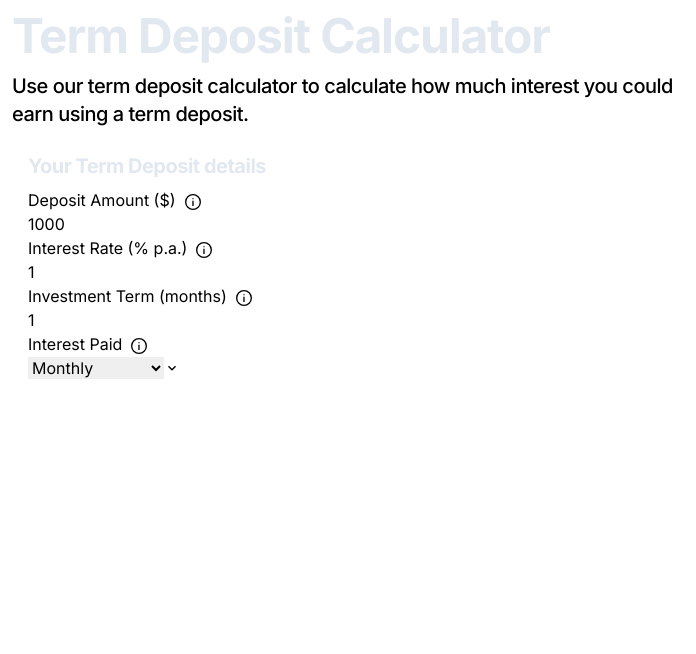
it: Term Deposit Calculator Component › should display an error message when Interest Rate is blank
Replace the text in the number field with test id "depositAmountInput" with "10000" at (354, 224), box [28, 212, 679, 236]
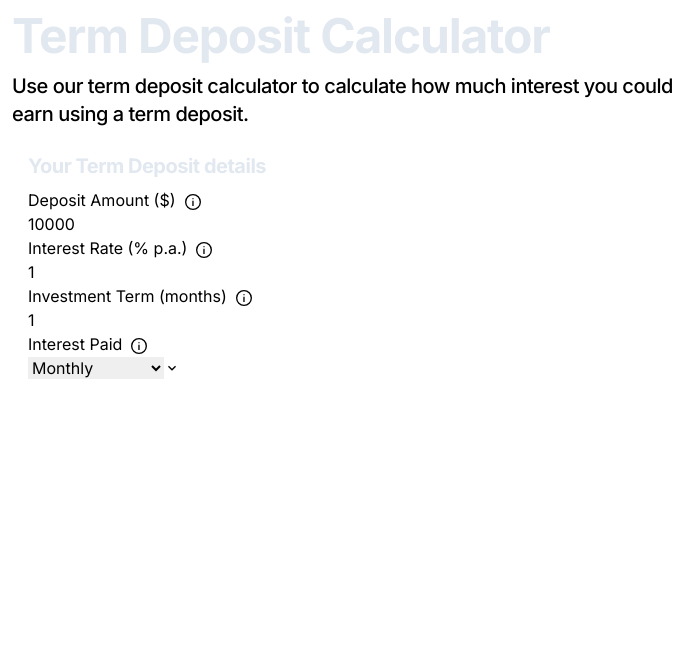
Clear the number field with test id "interestRateInput" at (354, 272), box [28, 260, 679, 284]
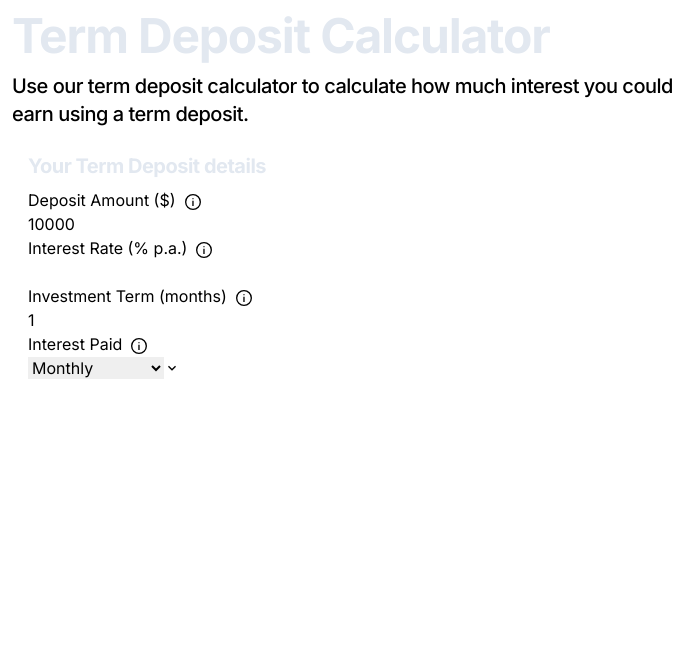
Replace the text in the number field with test id "investmentTermInput" with "36" at (354, 320), box [28, 308, 679, 332]
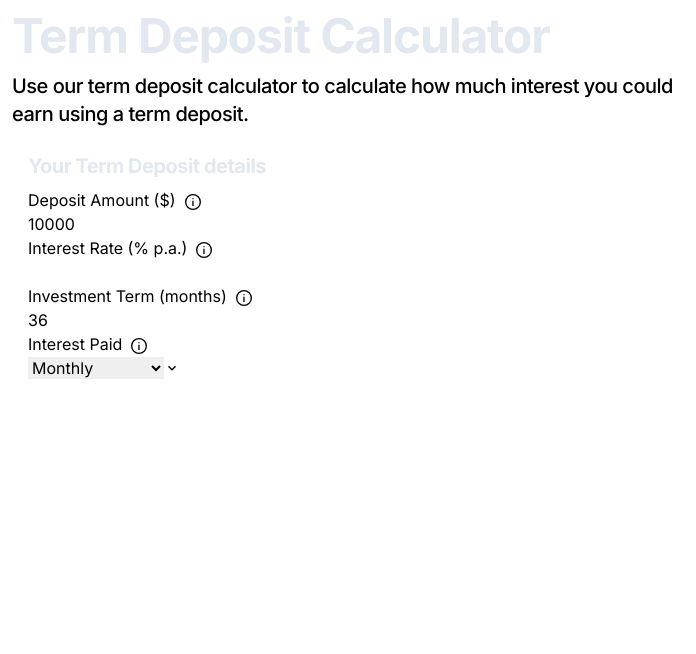
Select "At Maturity" in the dropdown with test id "interestPaidFrequencyInput" at (96, 368), box [28, 357, 164, 379]
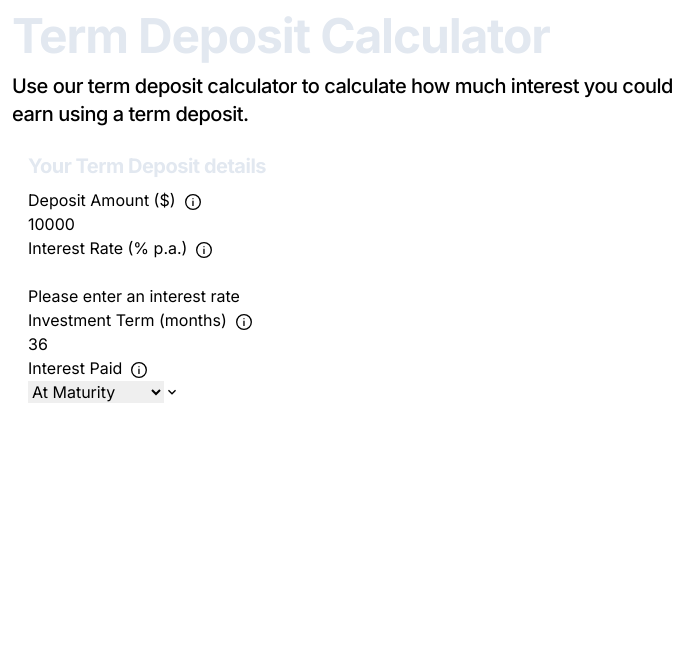
Expected: the number of messages is 1, [28, 286, 240, 306]
